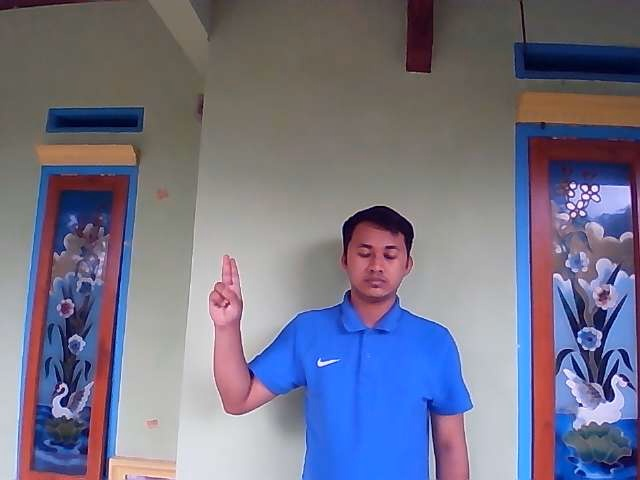U: (206, 254, 244, 327)
